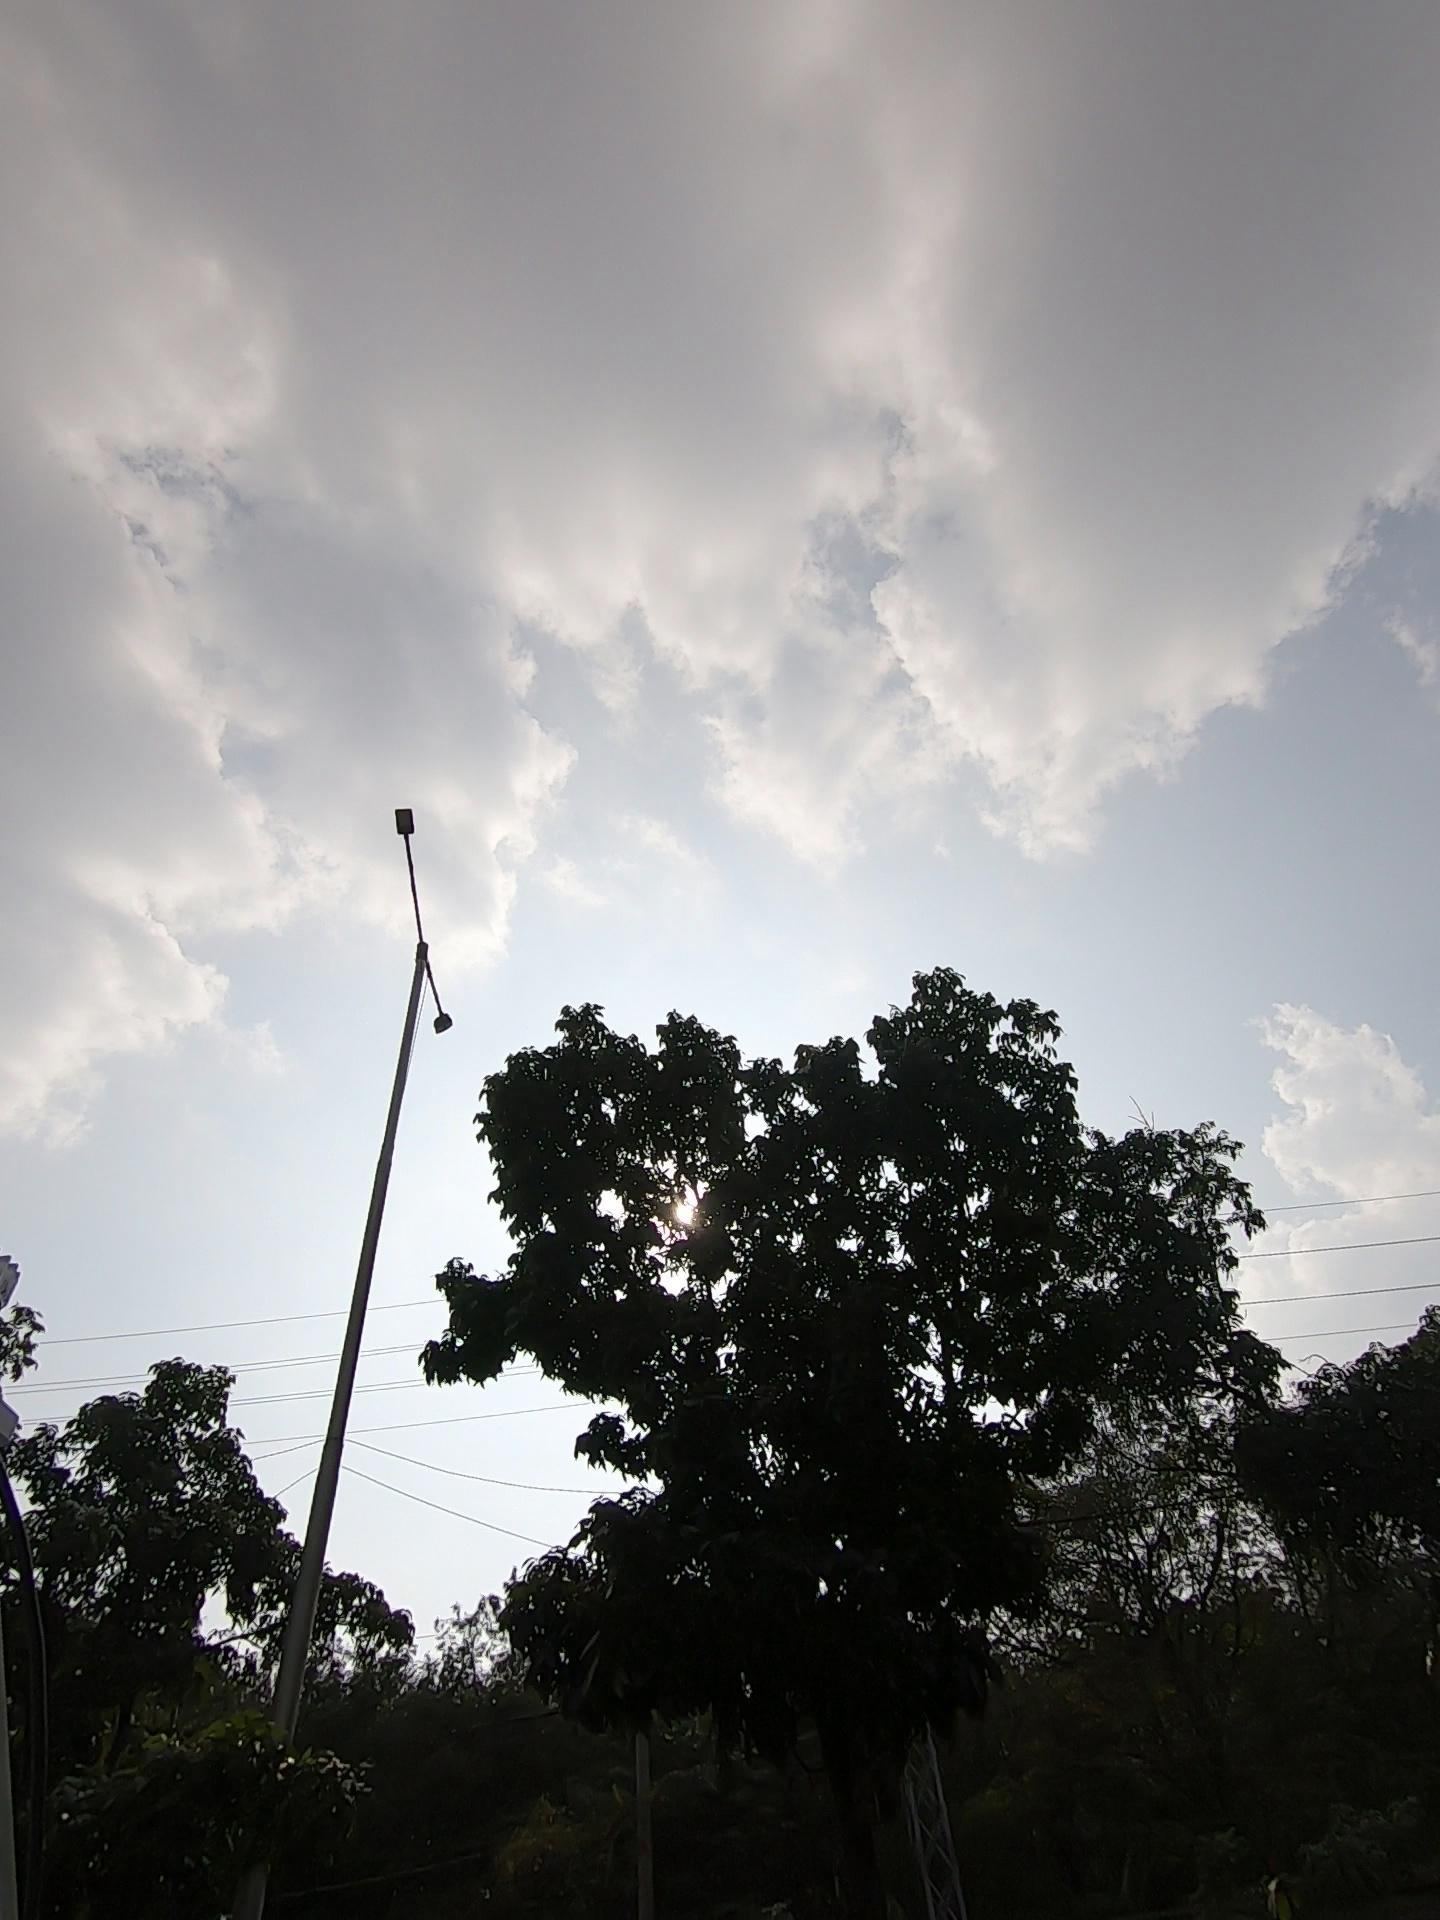off: (325, 760, 576, 1128)
